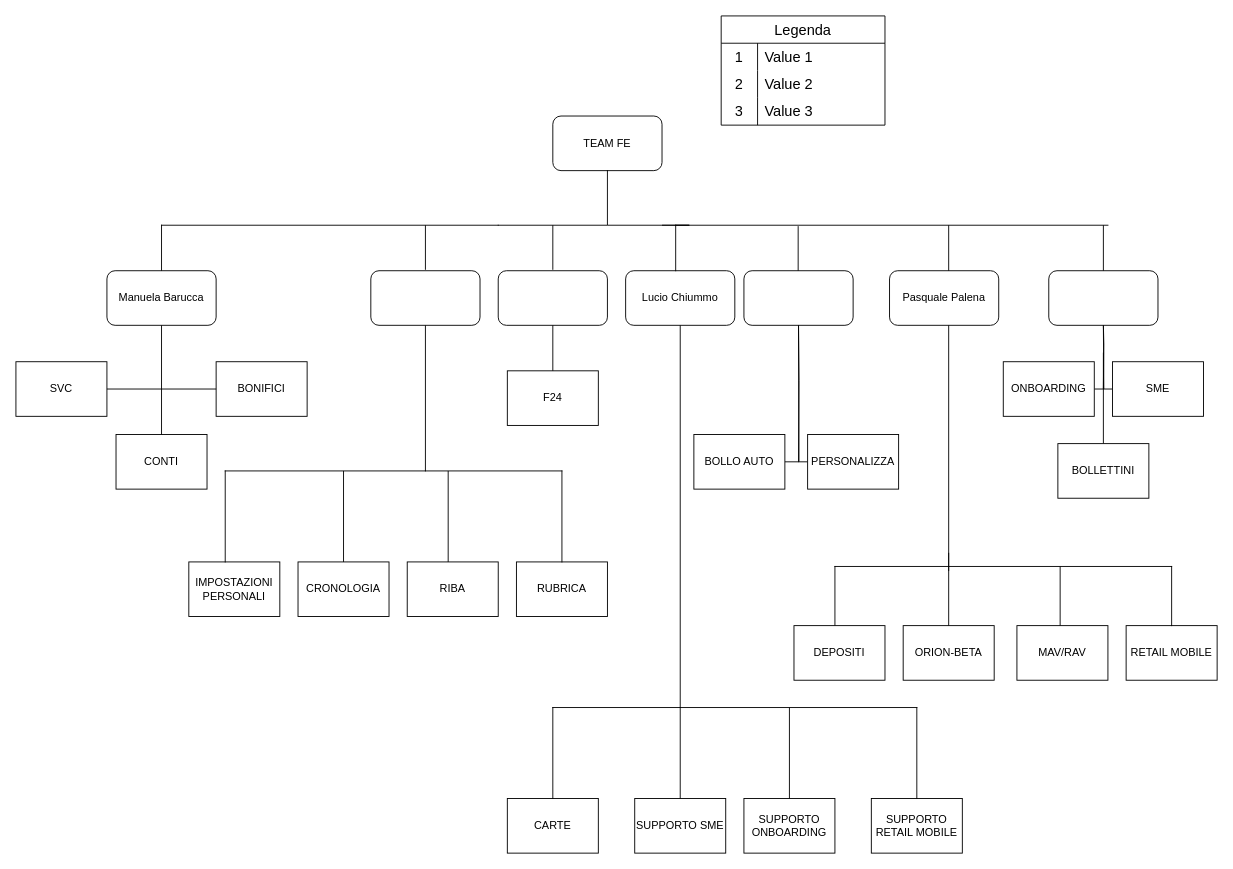
The diagram is 1233 pixels wide and 869 high, and some of its shapes have lost their labels. The centre of each missing label's shape, as x and y in pixels:
"Marco Pepe" goes at [798,297].
"Marco Tarantino" goes at [1103,297].
"Vincenzo Cavataio" goes at [552,297].
"Vincenzo Chianese" goes at [425,297].
